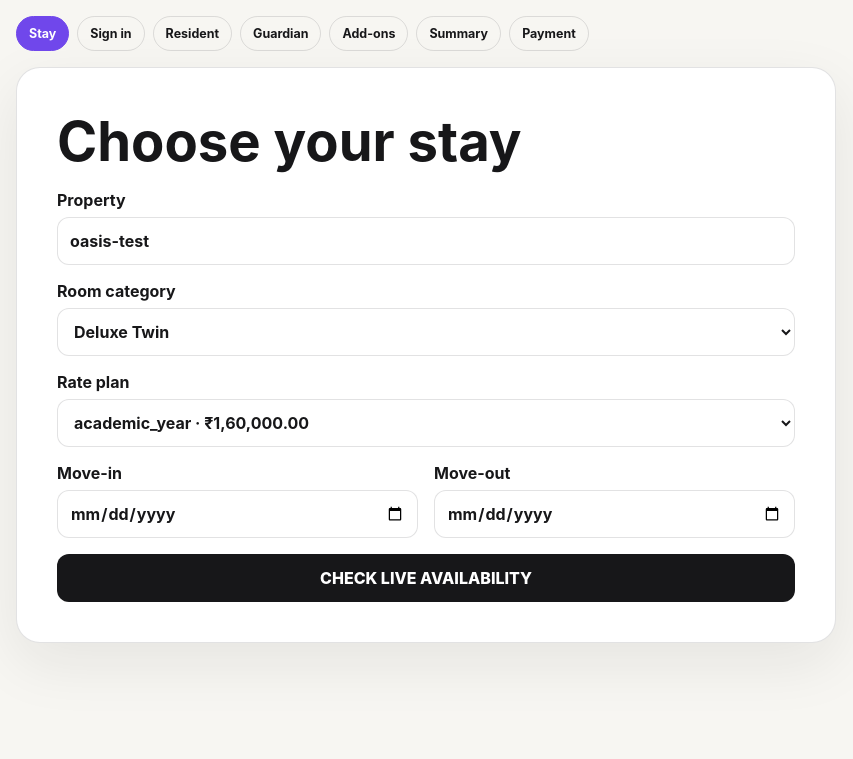
Test: BookingWizard › does not advance until dates and rate plan are ready
Step 1. Click the button "CHECK LIVE AVAILABILITY" → point(426, 578), box [57,554,795,602]
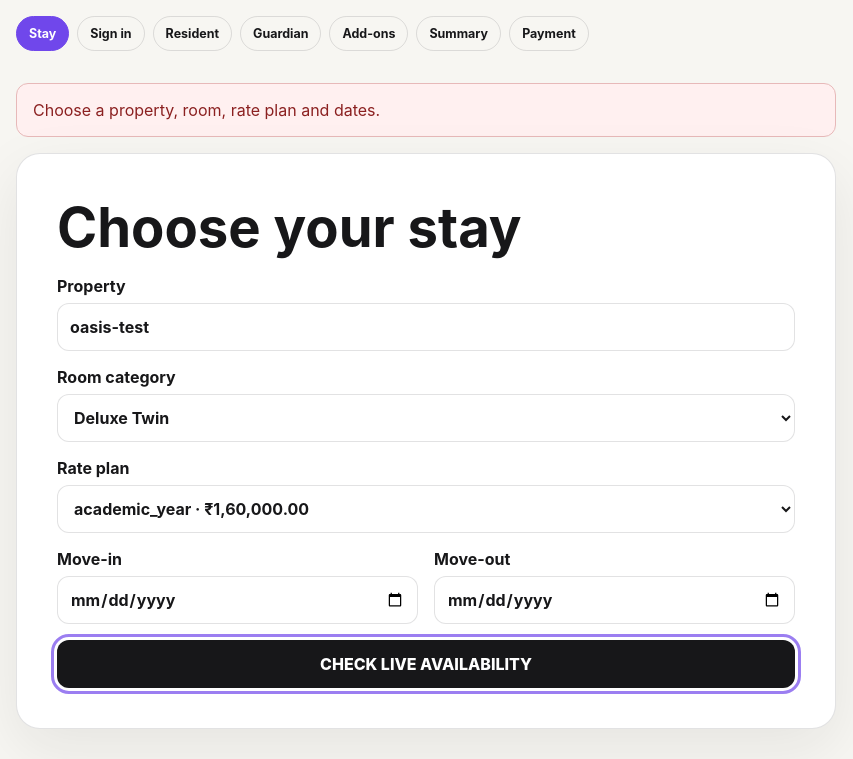
Result: the message shows "Choose a property, room, rate plan and dates" at [33,100,380,120]
